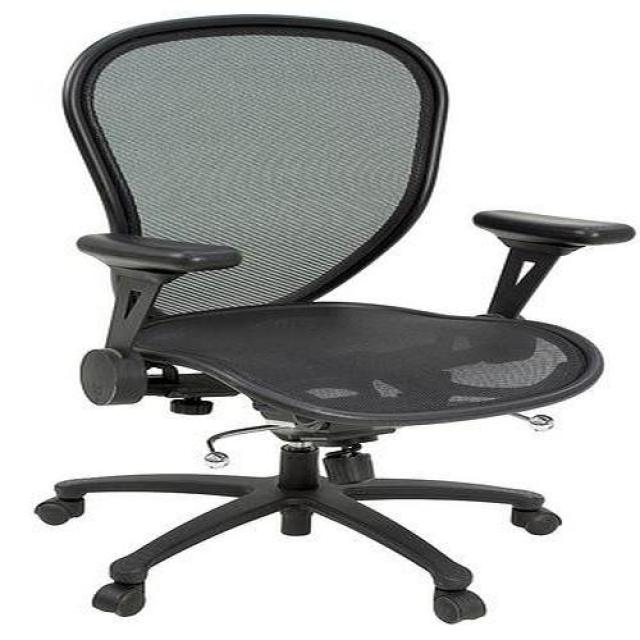swivelchair: (33, 17, 636, 627)
